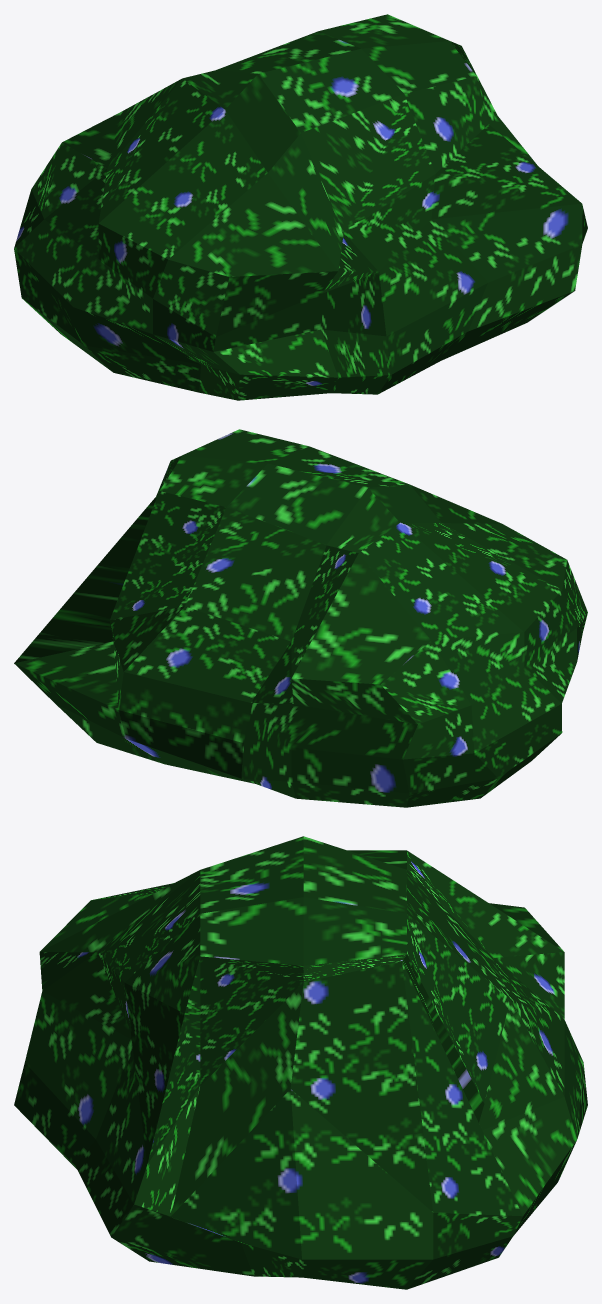
Rendered from Arbusto Mediano.fbx.
3 renders of one model, top to bottom at view 1: azimuth 30°, elevation 25°; view 2: azimuth 150°, elevation 25°; view 3: azimuth 270°, elevation 25°, orthographic. The views are drawn at different scales.
Visible parts, largest first — view 1: Cube.002; view 2: Cube.002; view 3: Cube.002.
Boxes of the visible parts, x1,y1,x2,y2 form: Cube.002: [14, 14, 587, 400]; Cube.002: [14, 429, 587, 807]; Cube.002: [14, 836, 587, 1289].
Size of the model in its own units: 688 by 607 by 355.
Materials: 1 (1 with a texture image).
